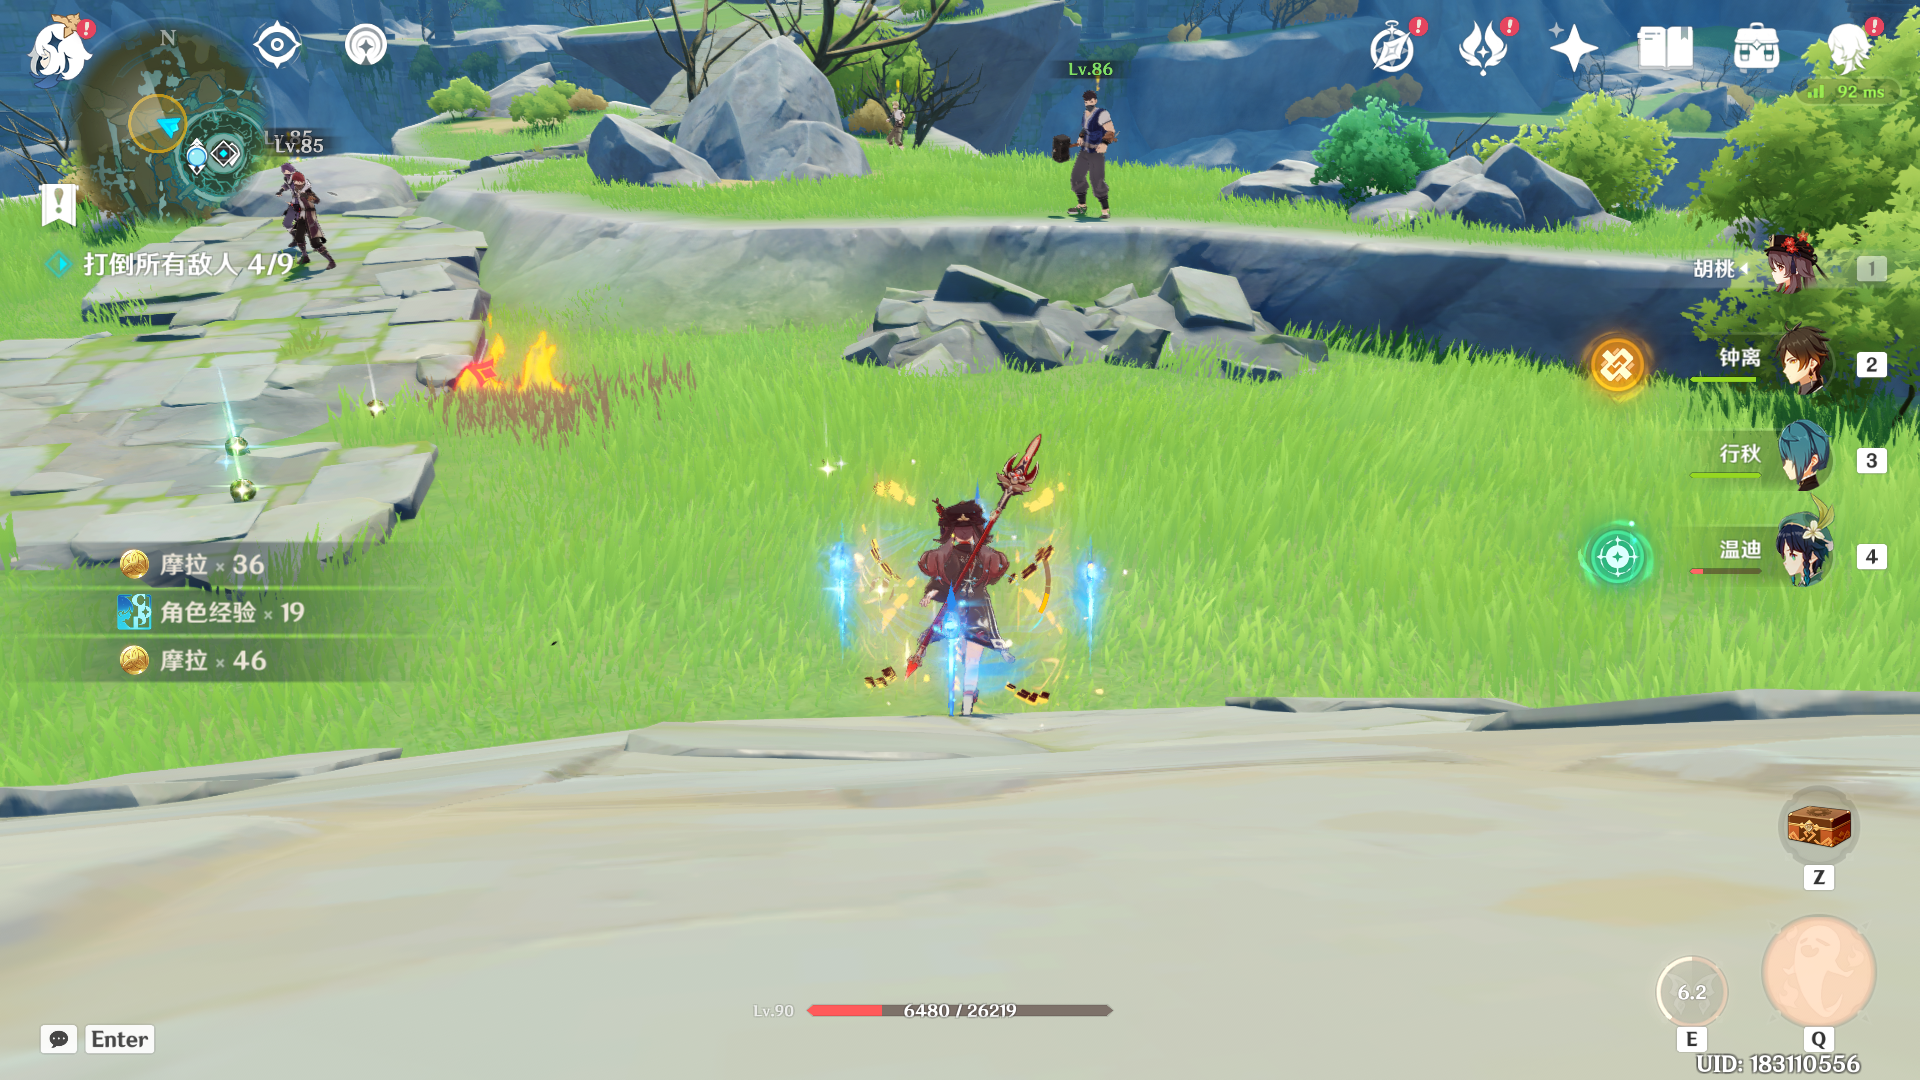character: (852, 473, 1088, 716)
robber: (1023, 73, 1149, 231), (257, 167, 368, 295)
